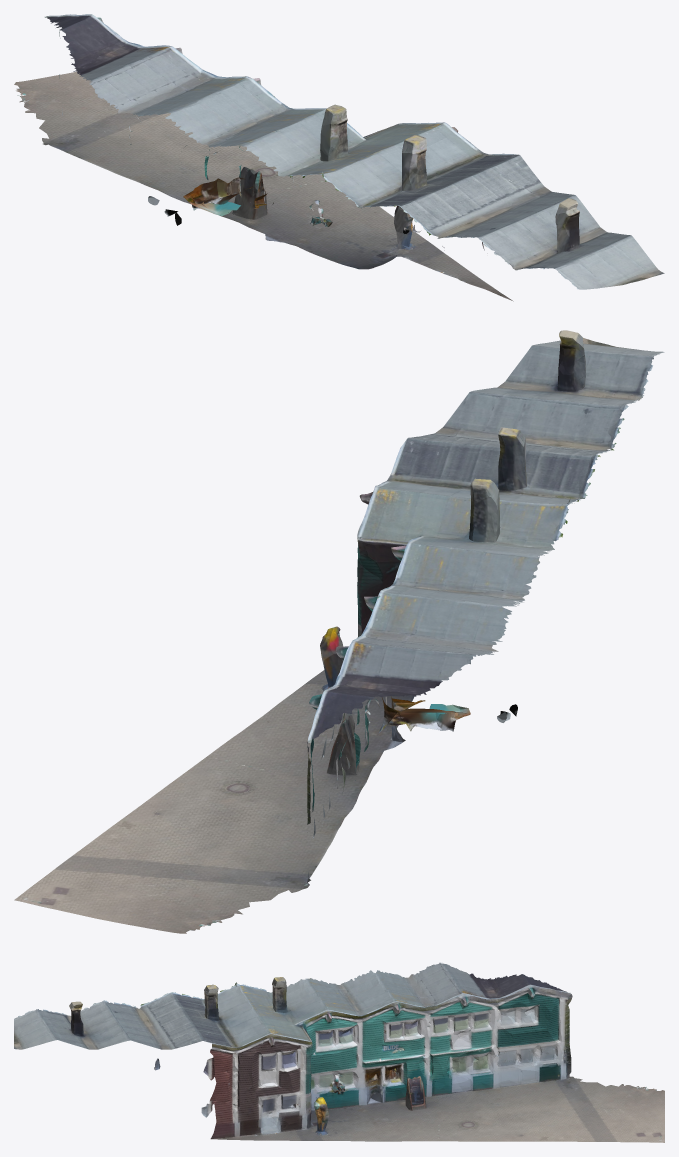
3 views of the same model, one above another, from view 1: azimuth 30°, elevation 25°; view 2: azimuth 150°, elevation 25°; view 3: azimuth 270°, elevation 25° (orthographic). The views are drawn at different scales.
Size of the model in its own units: 9.65 by 7.08 by 33.42.
1 material, 1 textured.
